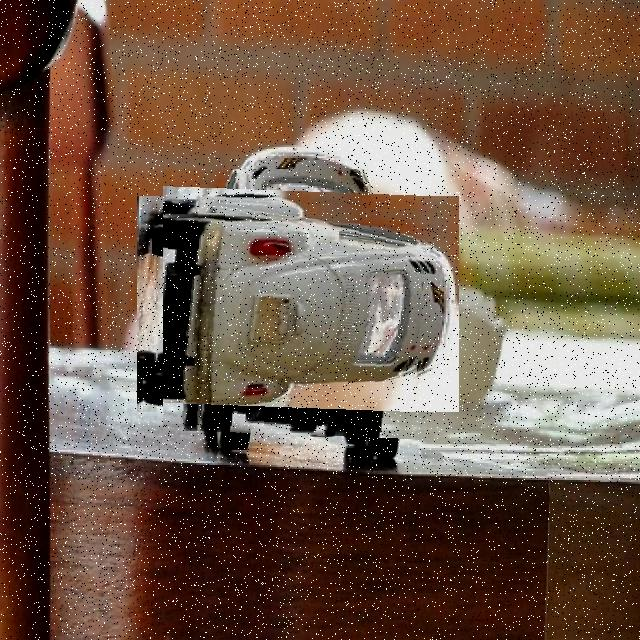car: (164, 170, 433, 440)
